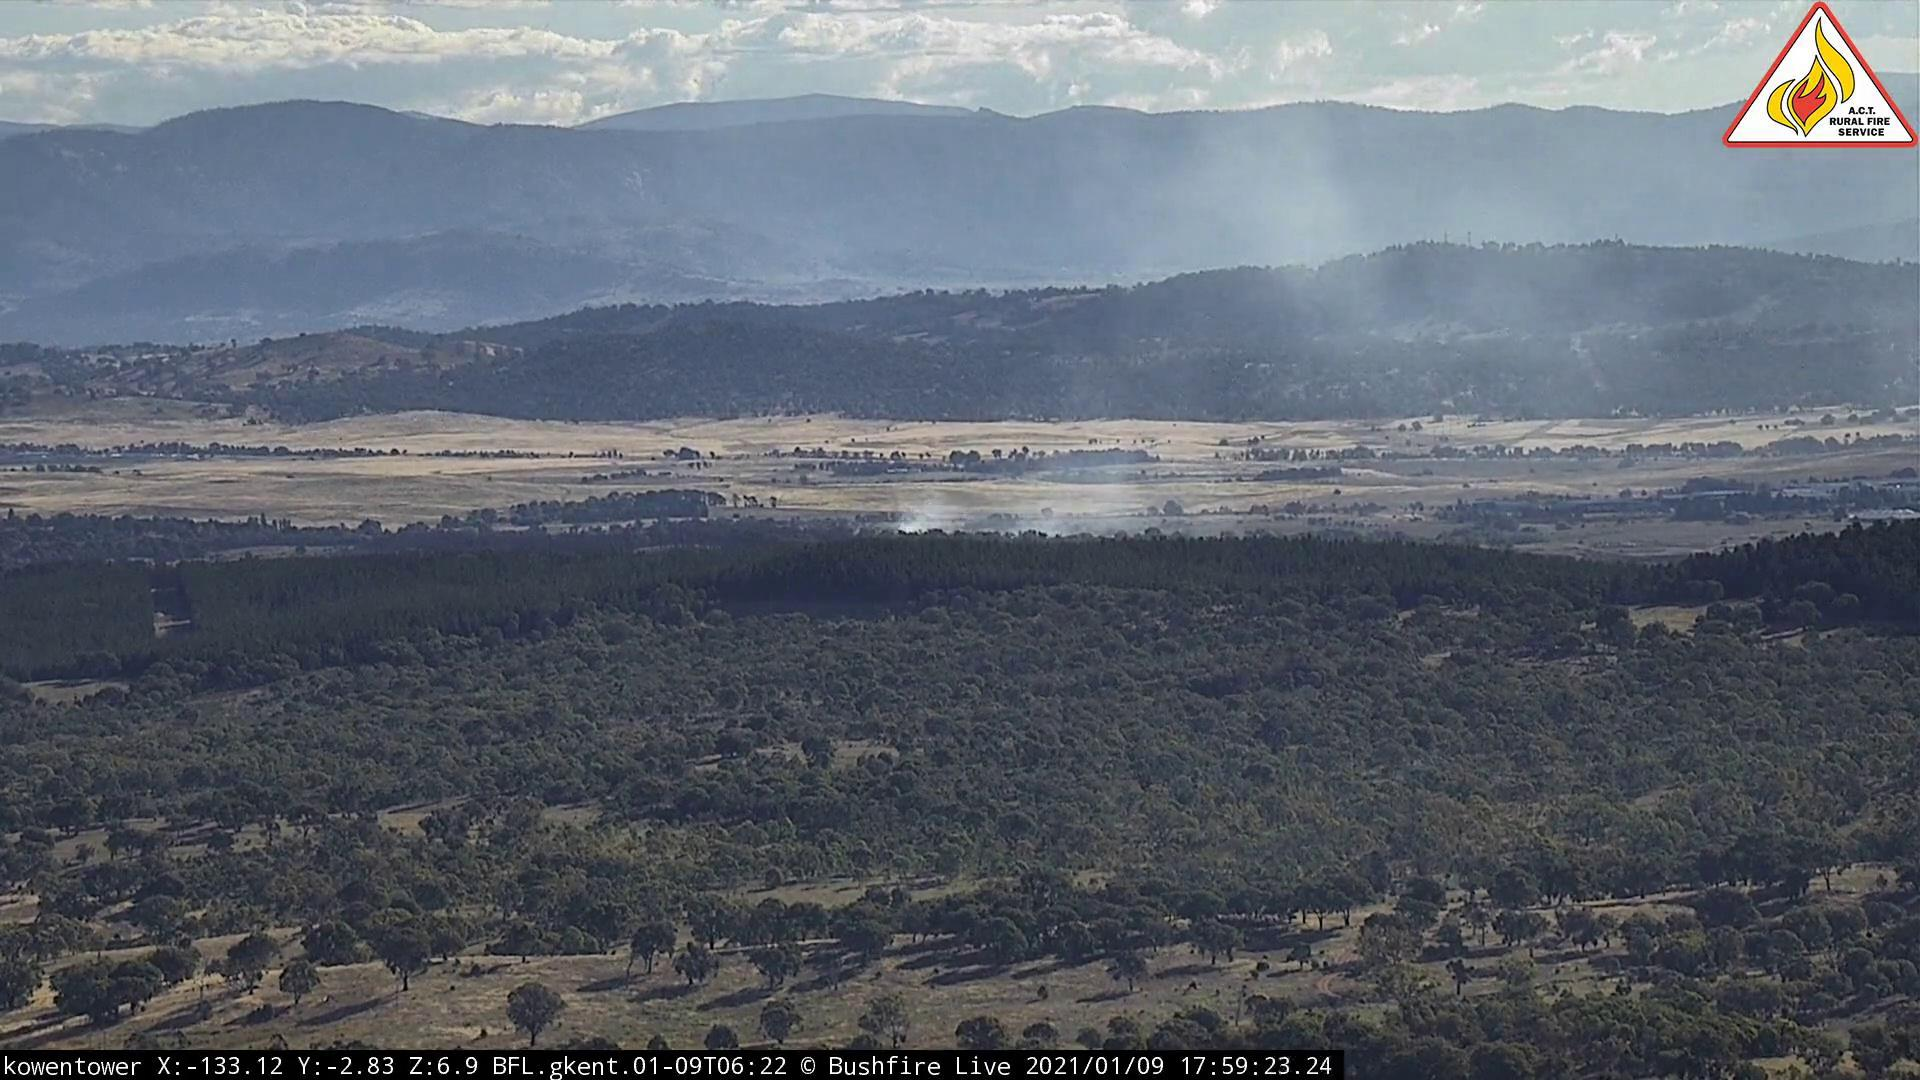Smoke: (891, 175, 1464, 542)
